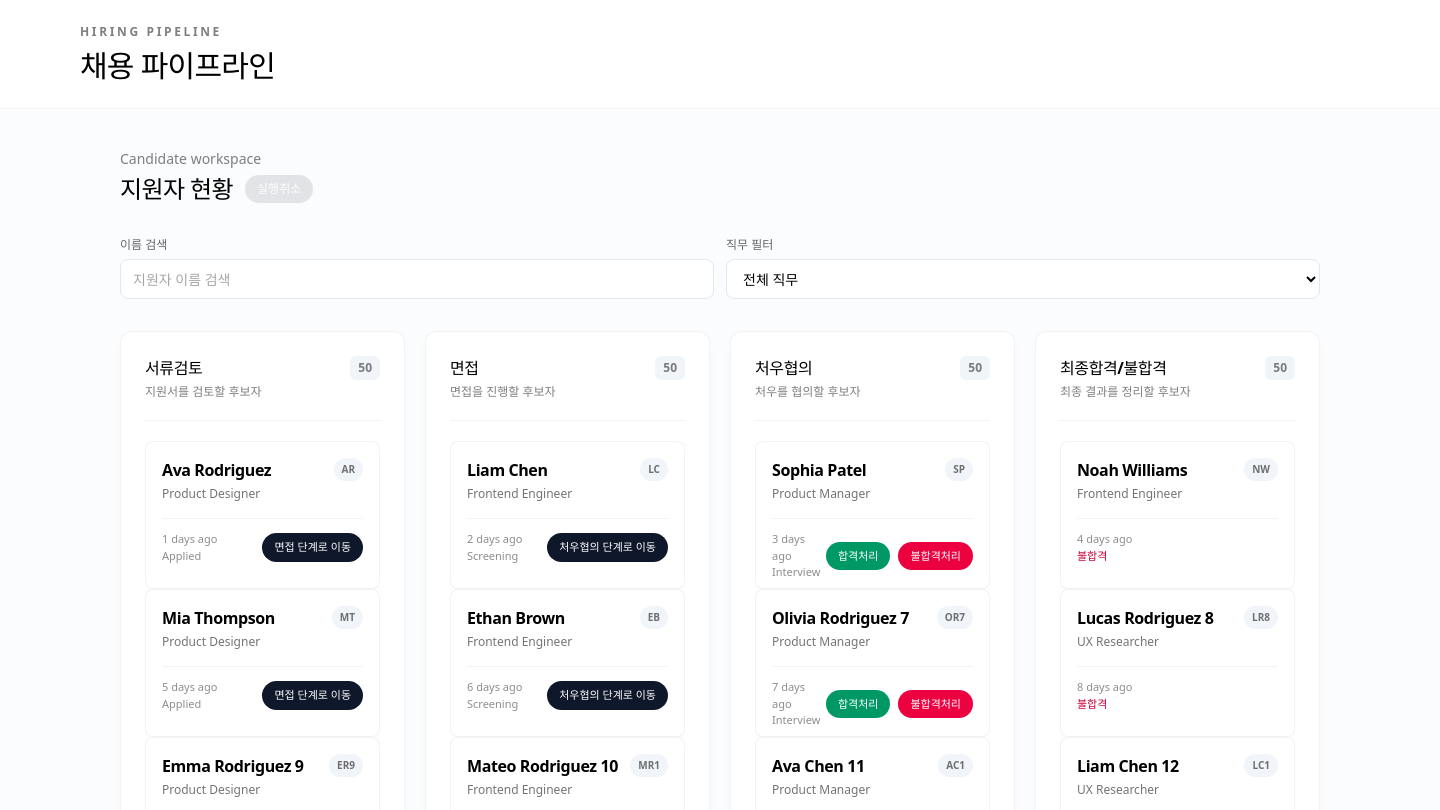
Test: Board › rolls back a failed move and shows a toast
The width and height of the screenshot is (1440, 810).
Click the 1st button "면접 단계로 이동": (313, 548) [262,533,363,562]
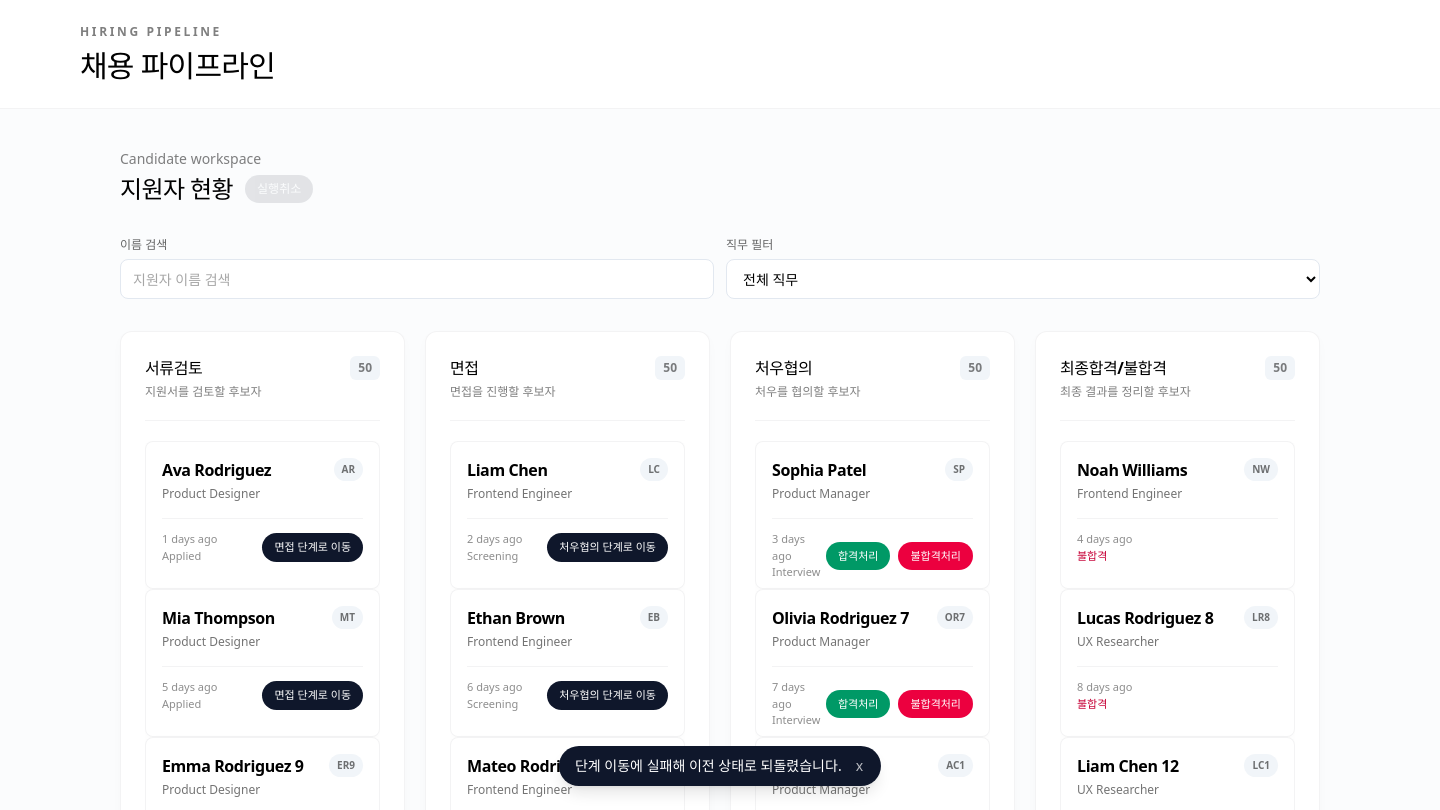
Expected: the heading "Ava Rodriguez" is shown, [162,458,271,482]
Now the message shows "단계 이동에 실패해 이전 상태로 되돌렸습니다.", box [575,756,842,775]
Click the button named "알림 닫기": (859, 766) [854,754,865,778]
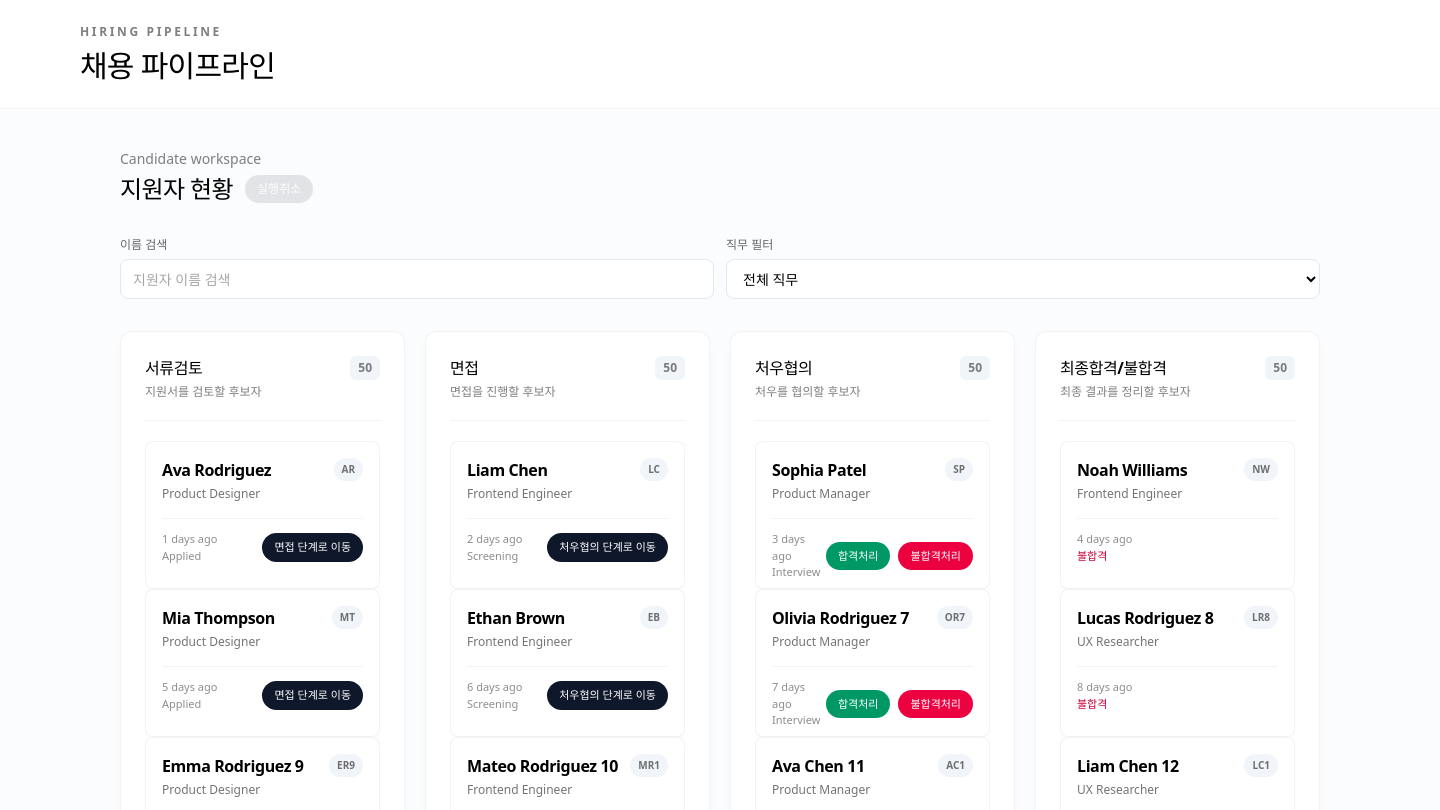
Now the message "단계 이동에 실패해 이전 상태로 되돌렸습니다. x" is gone
